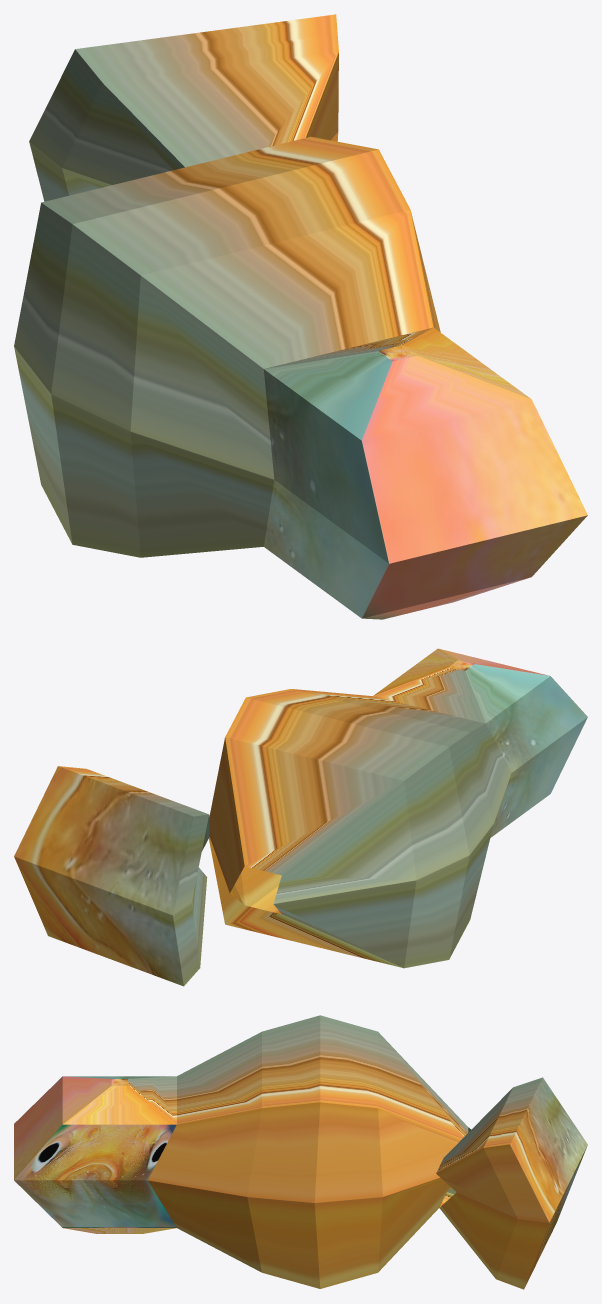
File: fish.fbx
3 renders of one model, top to bottom at view 1: azimuth 30°, elevation 25°; view 2: azimuth 150°, elevation 25°; view 3: azimuth 270°, elevation 25°, orthographic. The views are drawn at different scales.
Visible parts, largest first — view 1: Cube, Cube.001; view 2: Cube, Cube.001; view 3: Cube, Cube.001, Cube.003.
Part boxes in pixels (left/top/right/bottom): Cube: left=14, top=136, right=587, bottom=619; Cube.001: left=29, top=14, right=338, bottom=201; Cube: left=209, top=648, right=587, bottom=968; Cube.001: left=14, top=766, right=209, bottom=986; Cube: left=14, top=1015, right=471, bottom=1288; Cube.001: left=436, top=1077, right=587, bottom=1289; Cube.003: left=14, top=1124, right=176, bottom=1227.
Size of the model in its own units: 571 by 361 by 1004.
